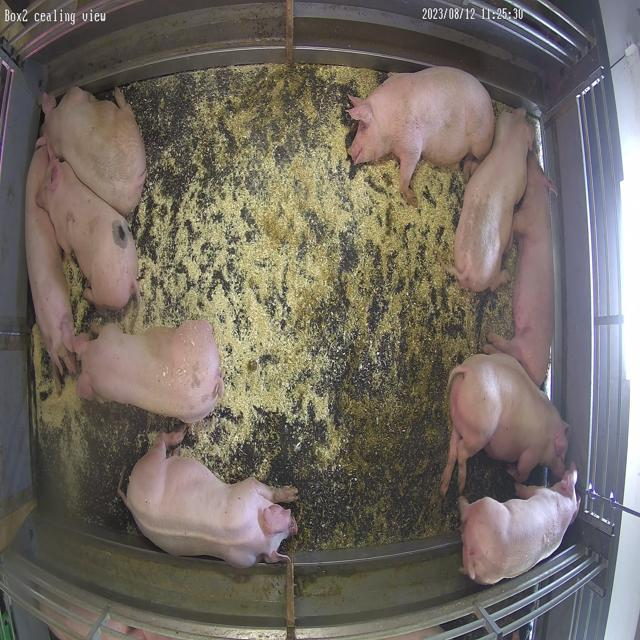Dirt: (303, 317, 487, 551), (225, 64, 328, 168), (465, 452, 516, 503)
Pig: (119, 429, 298, 569), (349, 66, 496, 204), (441, 355, 570, 496), (485, 151, 555, 385), (75, 321, 224, 424), (37, 159, 137, 310), (455, 108, 534, 292), (460, 469, 580, 586), (42, 87, 145, 215), (26, 146, 74, 372)
